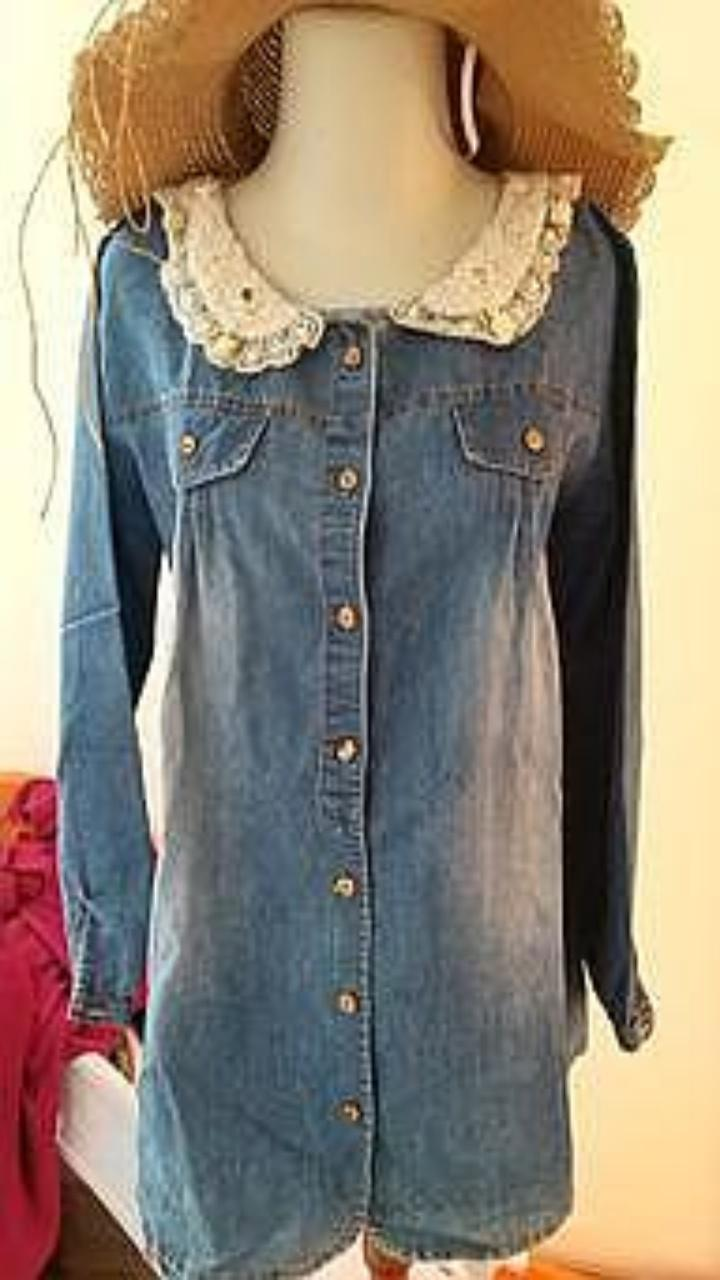Coat: (57, 175, 652, 1279)
